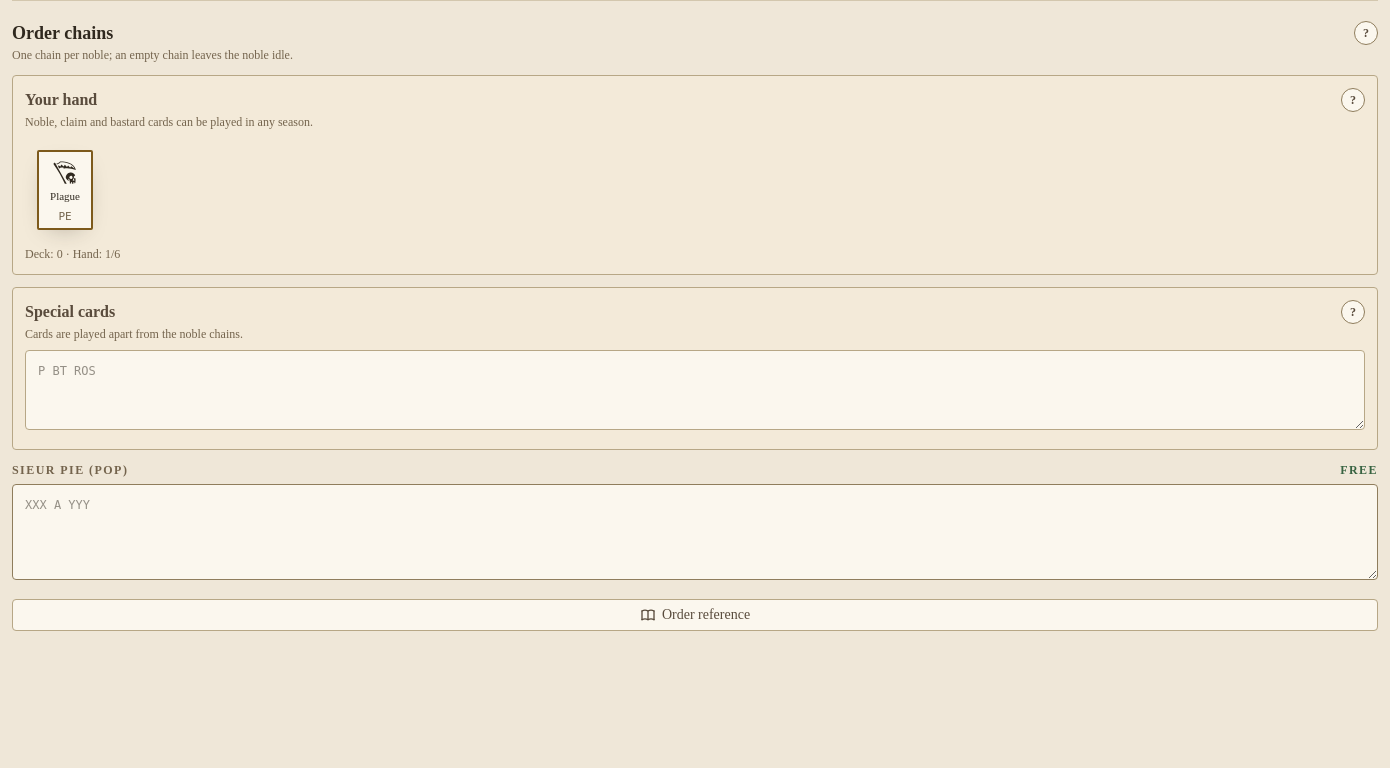
Test: OrdersPanel title and card order dialogs › says when a picked special card cannot be played now
This screenshot has width=1390, height=768.
What coordinates should you click on to do the following:
click the button "Plague PE"
I would click on:
 (65, 190)
Its box is [37,150,93,230].
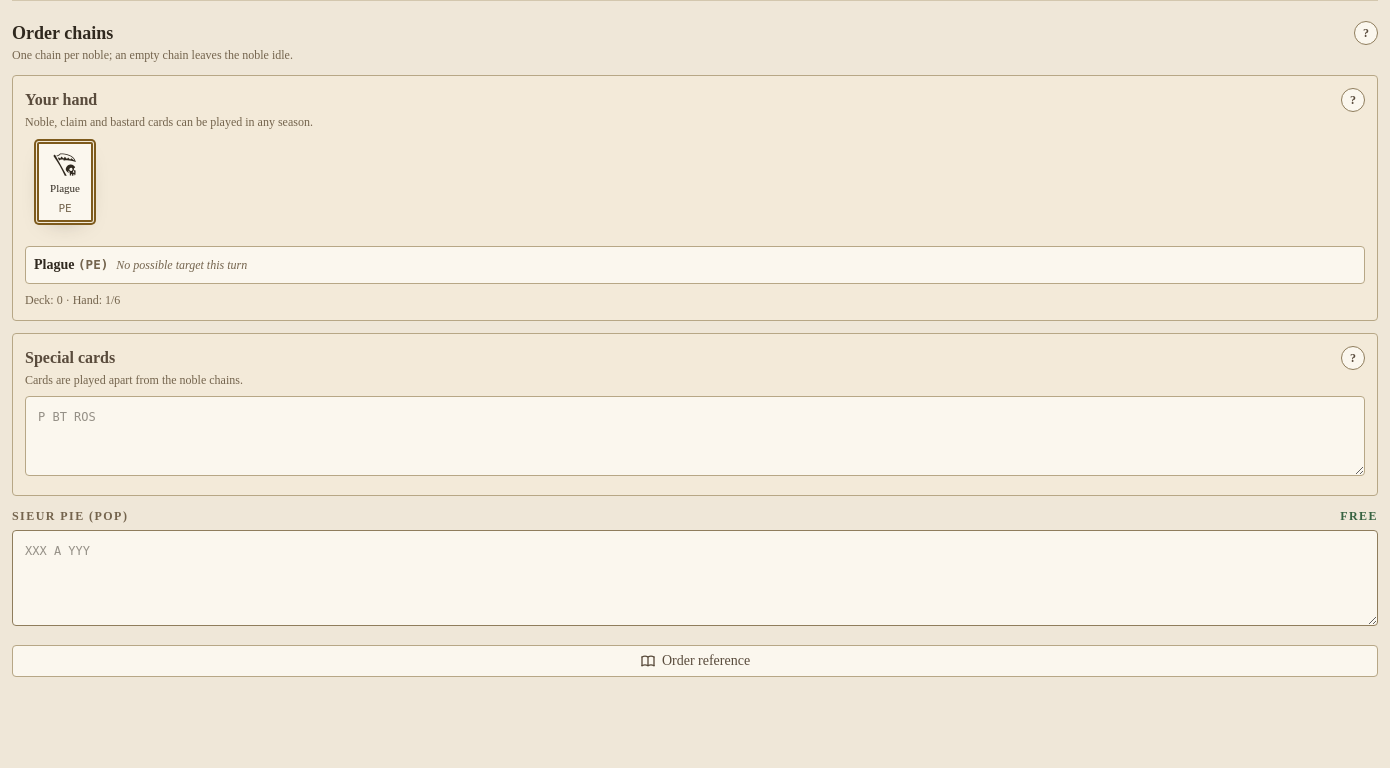
Result: the text "No possible target this turn" is shown at [116,257,247,273]
